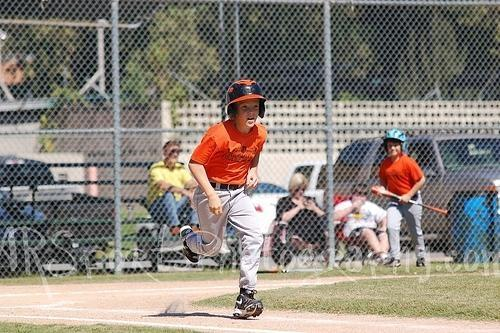car: (333, 133, 500, 254), (284, 160, 328, 212), (250, 178, 289, 233)
truck: (1, 158, 88, 202)
